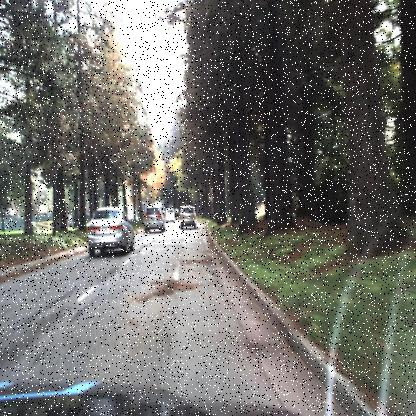car: (87, 207, 135, 255), (142, 202, 168, 234), (176, 202, 198, 229), (164, 205, 176, 226), (165, 203, 176, 224)
